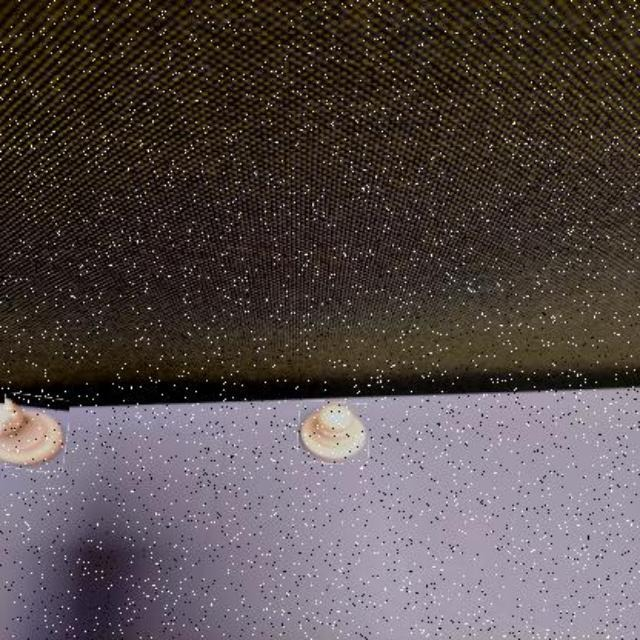white-pawn: (298, 401, 370, 465)
white-rook: (0, 396, 69, 474)
